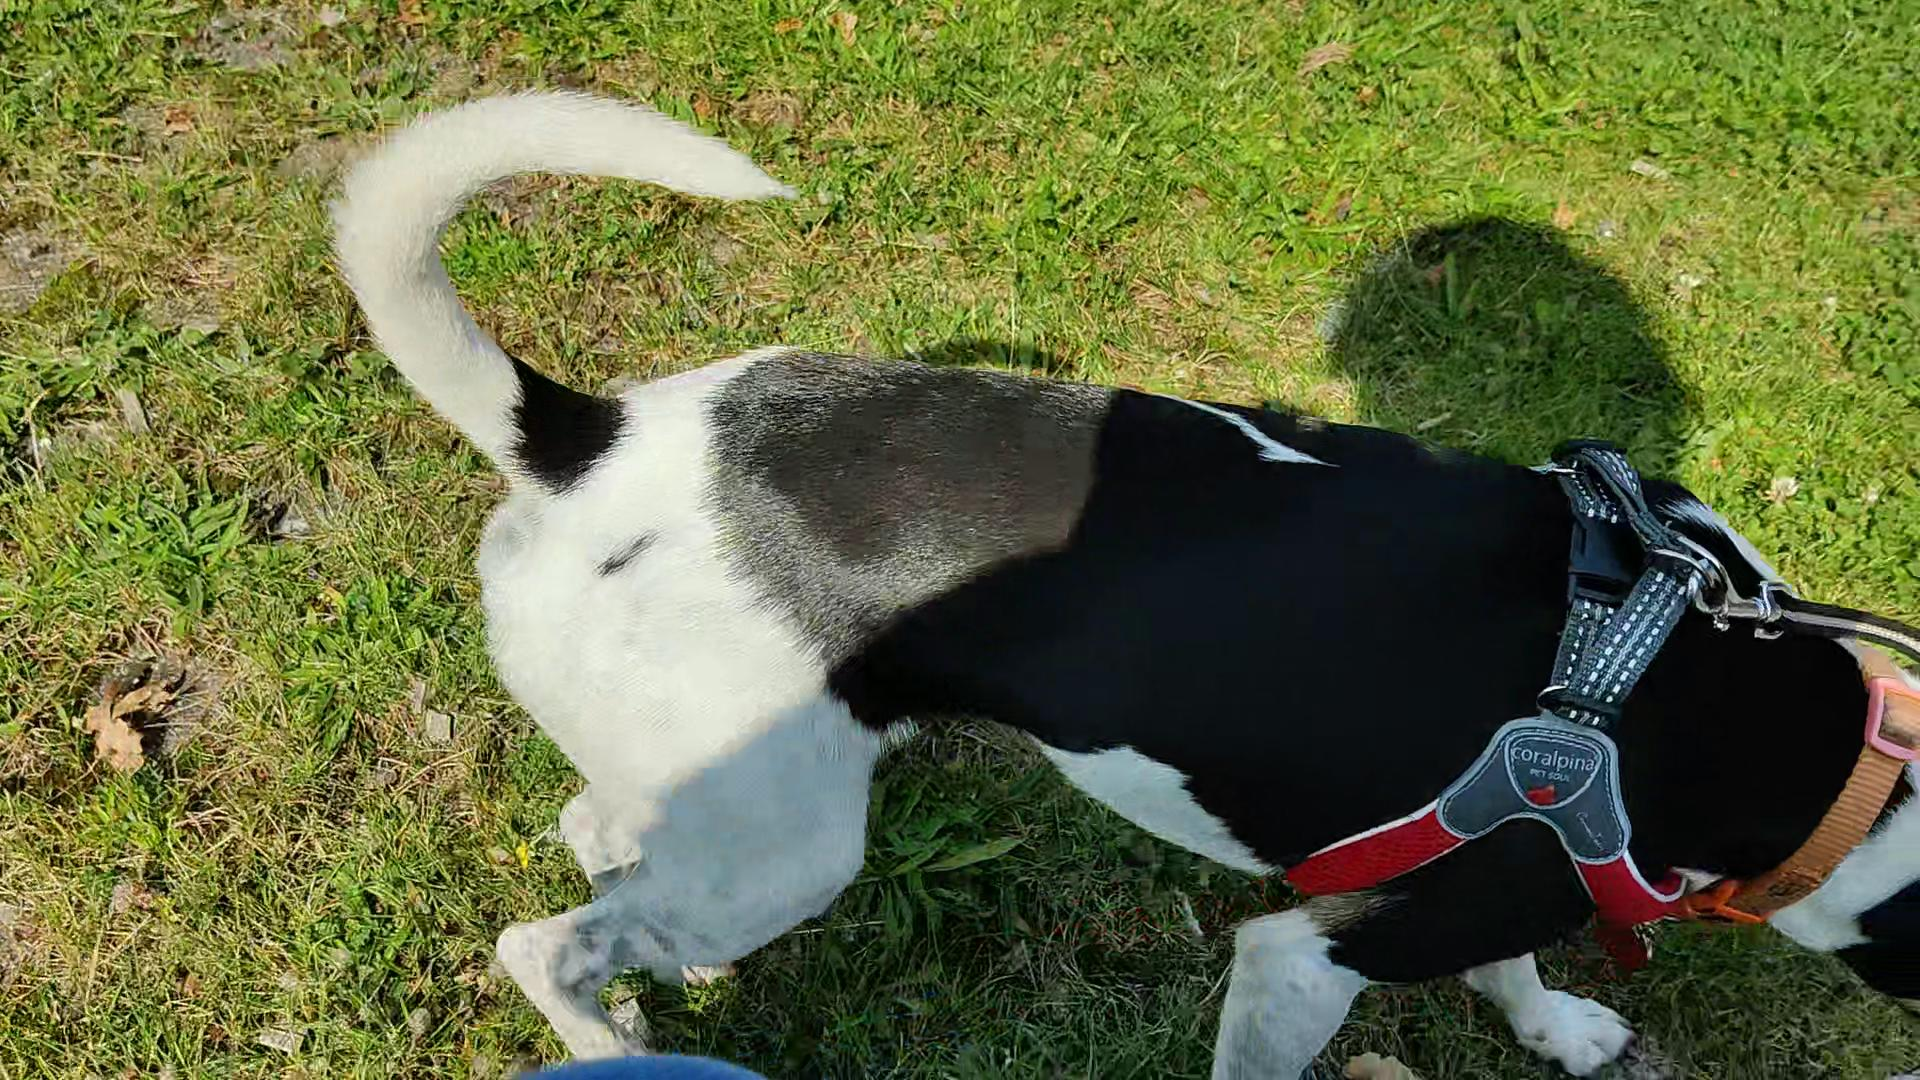Dog: (324, 79, 1919, 1079)
